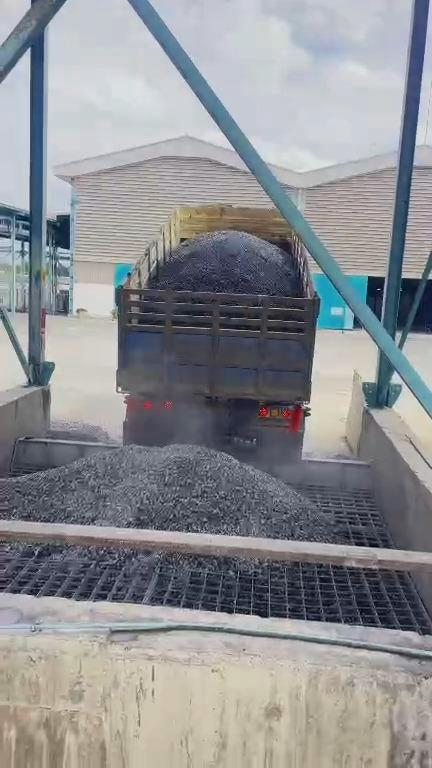gravel: (4, 446, 344, 541), (151, 231, 301, 296), (5, 545, 280, 580), (47, 420, 111, 441)
